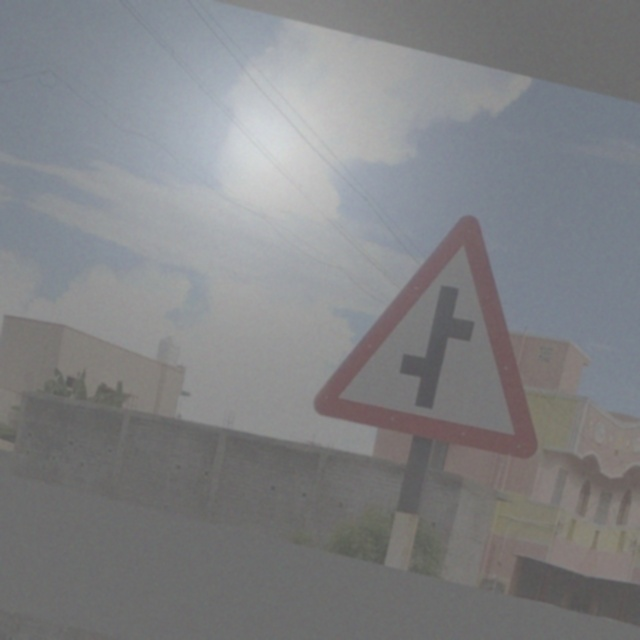Staggered_Intersection: (303, 188, 592, 475)
